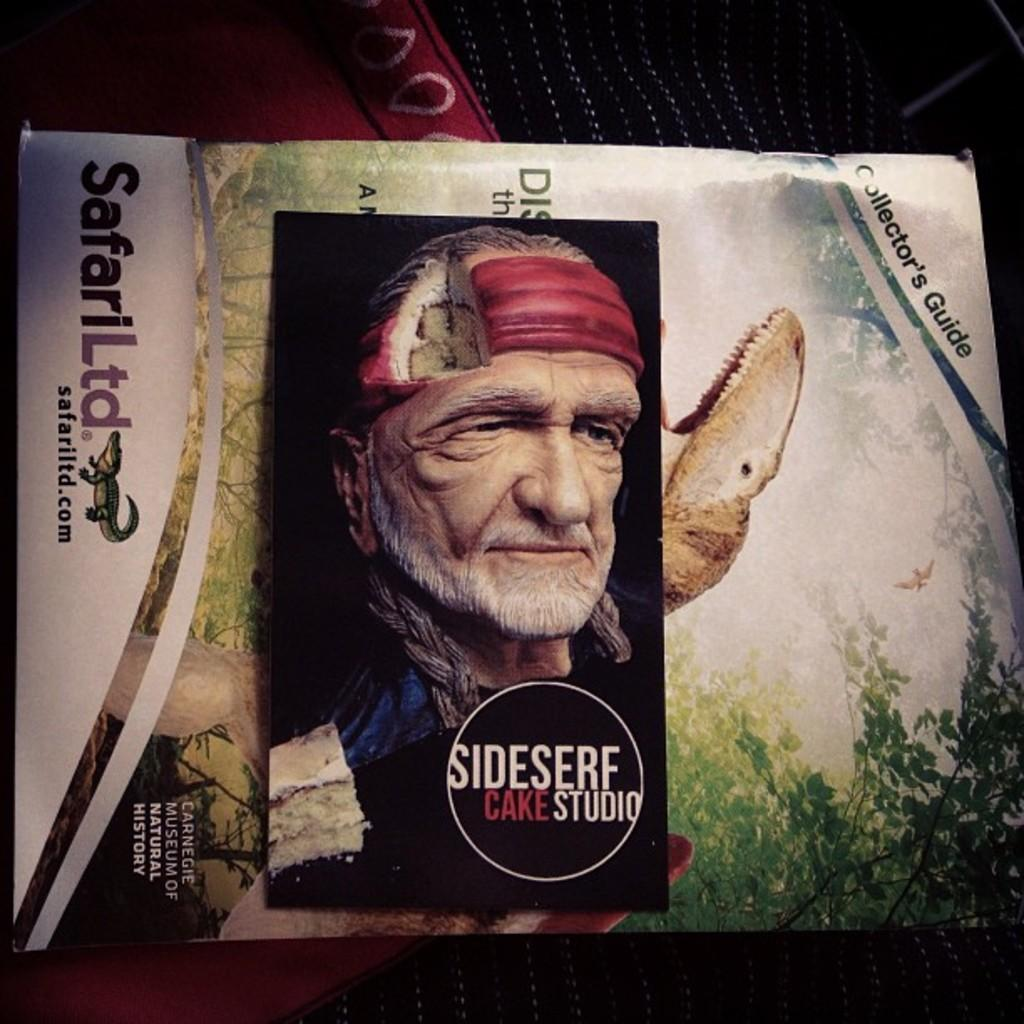Book: (8, 124, 1022, 947)
